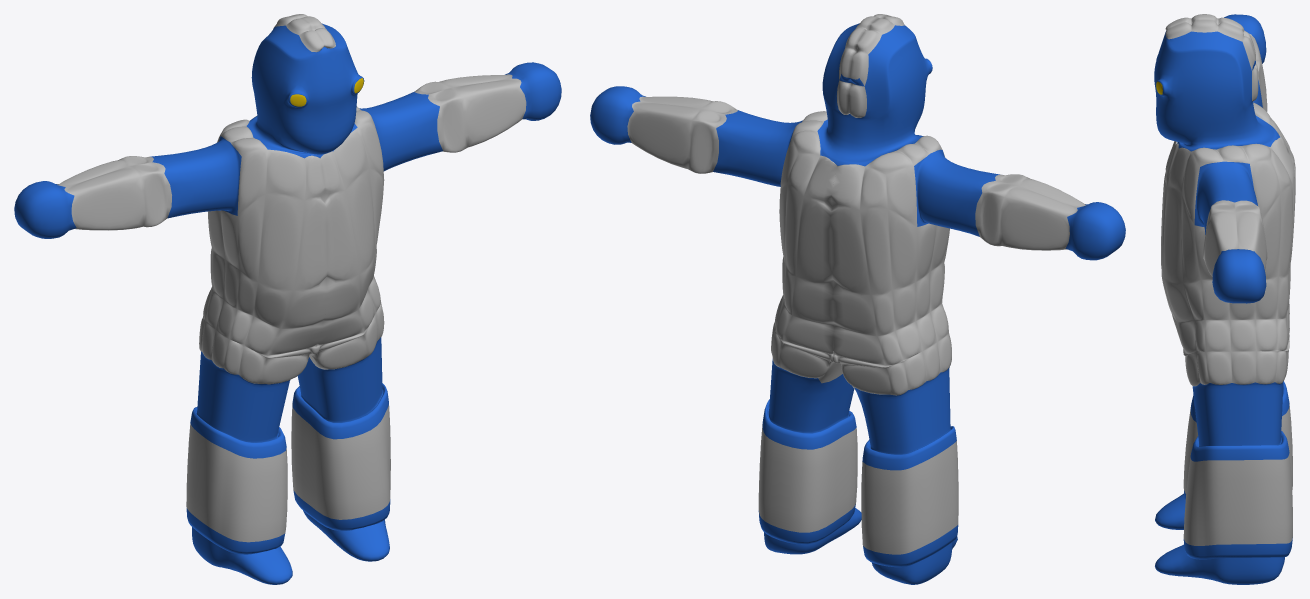
Rendered from Alien _Guard.fbx.
The picture shows the model from 3 angles, left to right: view 1: azimuth 30°, elevation 25°; view 2: azimuth 150°, elevation 25°; view 3: azimuth 270°, elevation 25°; orthographic projection. The views are drawn at different scales.
Parts seen in each view (by area): view 1: Cube; view 2: Cube; view 3: Cube.
Boxes of the visible parts, x1,y1,x2,y2 form: Cube: (14,14,561,584); Cube: (590,14,1125,584); Cube: (1154,14,1295,584).
Bounding box in the file's own units: 13.72 × 13.13 × 3.17.
